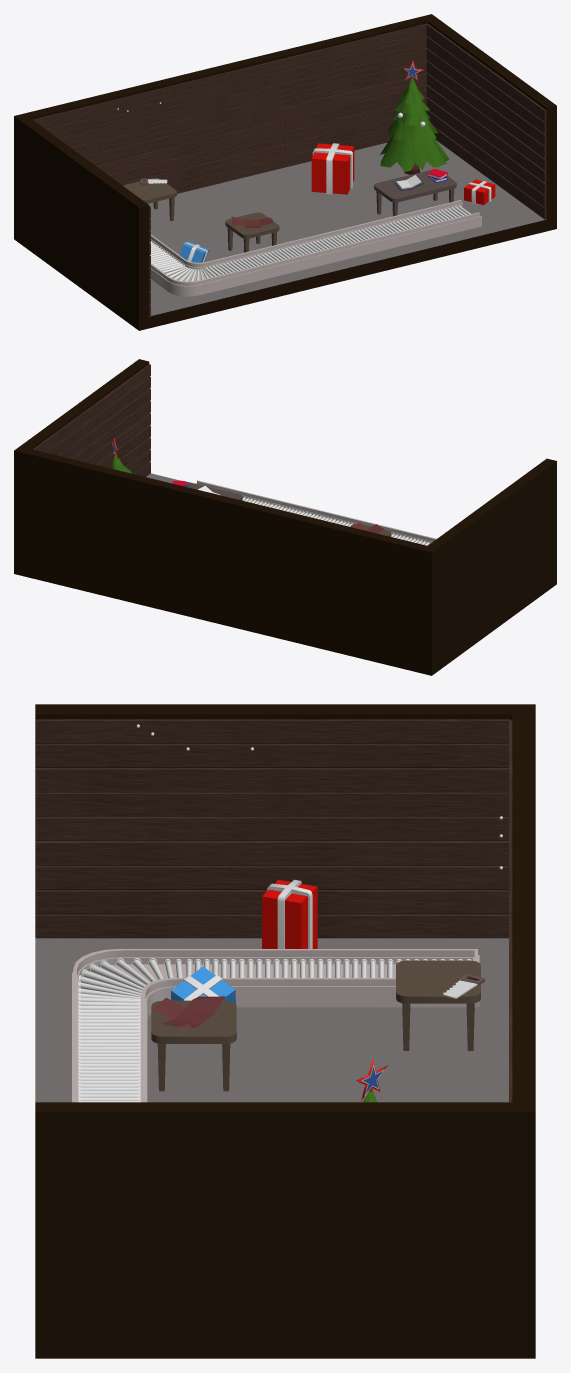
File: hhhhhh.fbx
The picture shows the model from 3 angles, top to bottom: view 1: azimuth 30°, elevation 25°; view 2: azimuth 150°, elevation 25°; view 3: azimuth 270°, elevation 25°; orthographic projection. The views are drawn at different scales.
Visible parts, largest first — view 1: Cube, Cube.022, Cube.013, Cube.001, Circle, Cylinder.002, Cube.014, Cube.005, Cube.003, Cube.002, Cube.016, Cylinder.014 (+1 smaller); view 2: Cube, Cube.013, Cube.001, Cylinder.002; view 3: Cube, Cube.012, Cube.001, Cylinder.002, Cube.002, Cube.015, Cube.003, Cylinder.014, Cube.022, Plane.001, Cube.017.
Boxes of the visible parts, x1,y1,x2,y2 form: Cube: [14, 14, 556, 330]; Cube.022: [33, 23, 427, 193]; Cube.013: [426, 23, 546, 219]; Cube.001: [150, 199, 481, 296]; Circle: [380, 78, 449, 171]; Cylinder.002: [204, 205, 470, 276]; Cube.014: [311, 143, 354, 194]; Cube.005: [374, 169, 456, 216]; Cube.003: [225, 212, 279, 252]; Cube.002: [123, 177, 176, 221]; Cube.016: [464, 179, 495, 204]; Cylinder.014: [150, 241, 180, 269]; Cube: [14, 359, 556, 675]; Cube.013: [33, 364, 150, 476]; Cube.001: [195, 480, 436, 543]; Cylinder.002: [242, 497, 431, 545]; Cube: [35, 704, 535, 1358]; Cube.012: [35, 719, 510, 938]; Cube.001: [72, 949, 479, 1102]; Cylinder.002: [78, 996, 140, 1102]; Cube.002: [396, 960, 480, 1050]; Cube.015: [262, 879, 317, 948]; Cube.003: [151, 1000, 236, 1091]; Cylinder.014: [185, 959, 471, 977]; Cube.022: [509, 720, 512, 1102]; Plane.001: [152, 996, 225, 1028]; Cube.017: [171, 966, 235, 1003].
Size of the model in its own units: 519 by 159 by 269.
